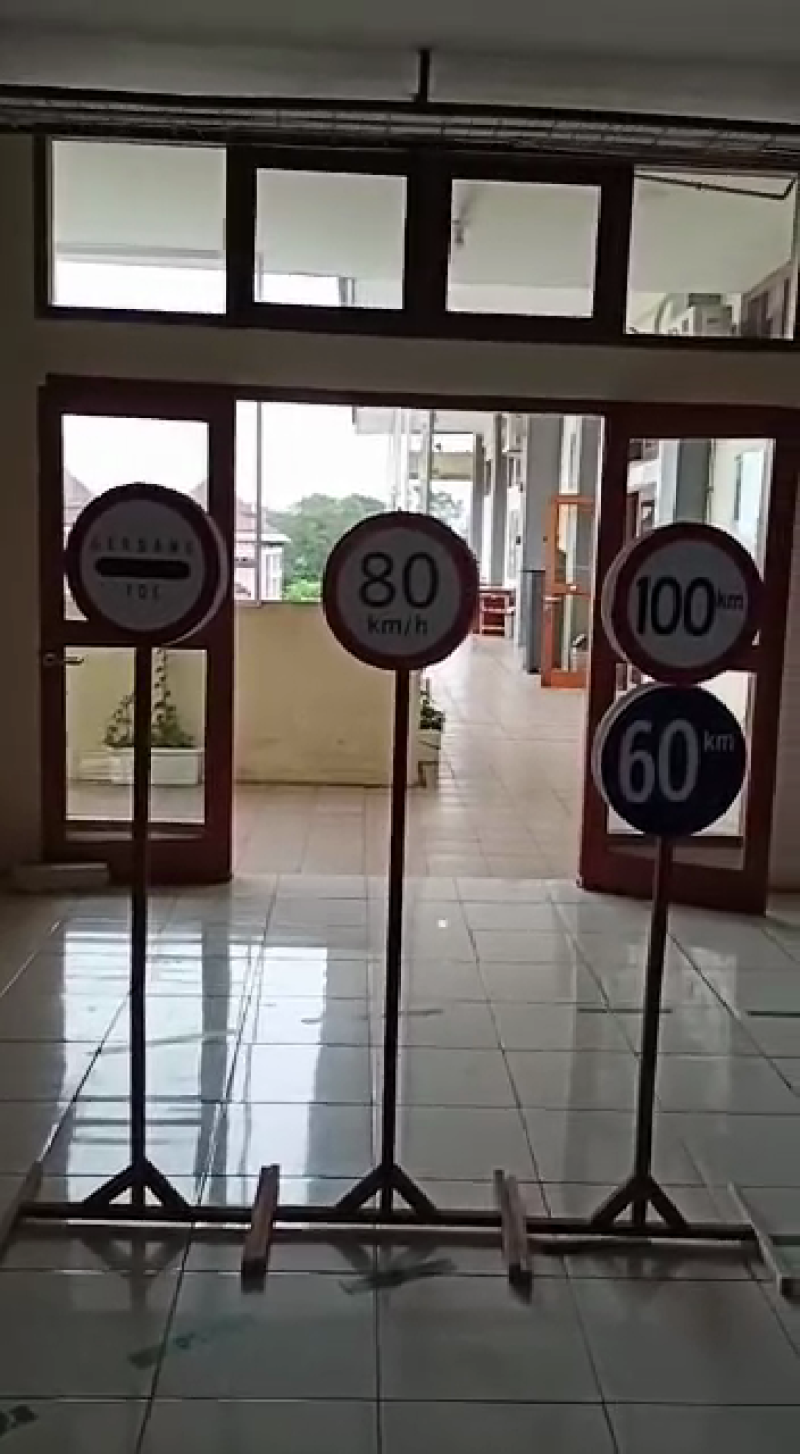batas maksimal 100kmperjam minimal 60kmperjam: (587, 514, 759, 846)
batas maksimal 80kmperjam: (318, 494, 487, 687)
gerbang tol: (61, 477, 233, 661)
